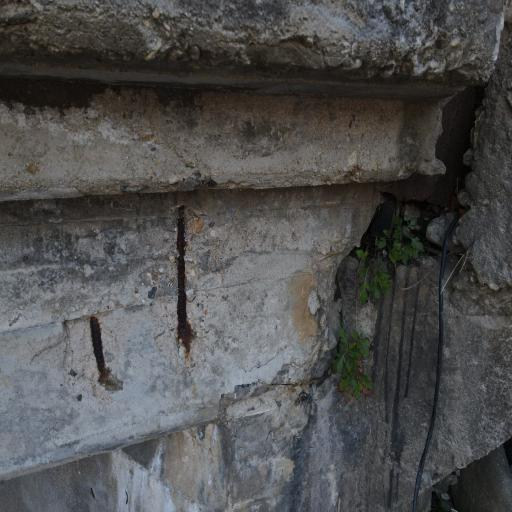exposed_rebar: (90, 316, 122, 391), (177, 206, 192, 354)
